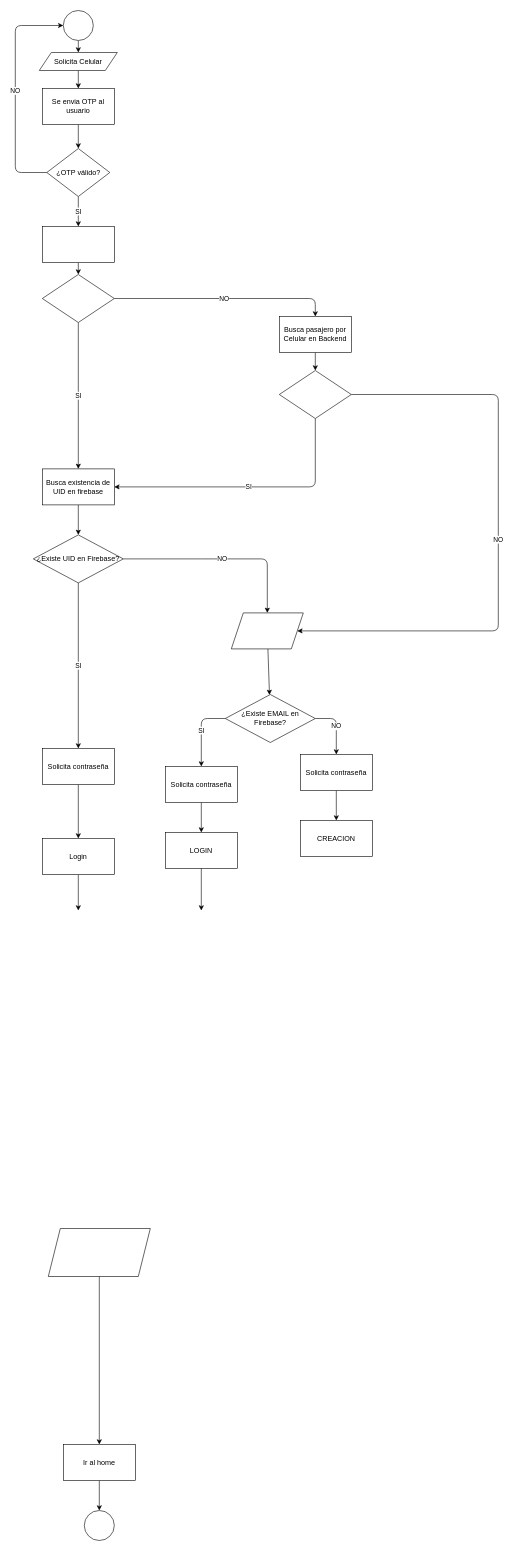
Some shapes in this 514 by 1551 pixel diagram are drawn without their labels. Each missing label, with the centre of its shape:
"Busca conductores por Celular en Backend" belongs at [78,244].
"FIN" belongs at [99,1525].
"Formulario de Registro (Adjuntando el celular y la fecha)" belongs at [99,1252].
"INICIO" belongs at [78,25].
"Solicita Email" belongs at [267,630].
"¿Encontró un conductor?" belongs at [78,298].
"¿Encontró un pasajero?" belongs at [315,394].
